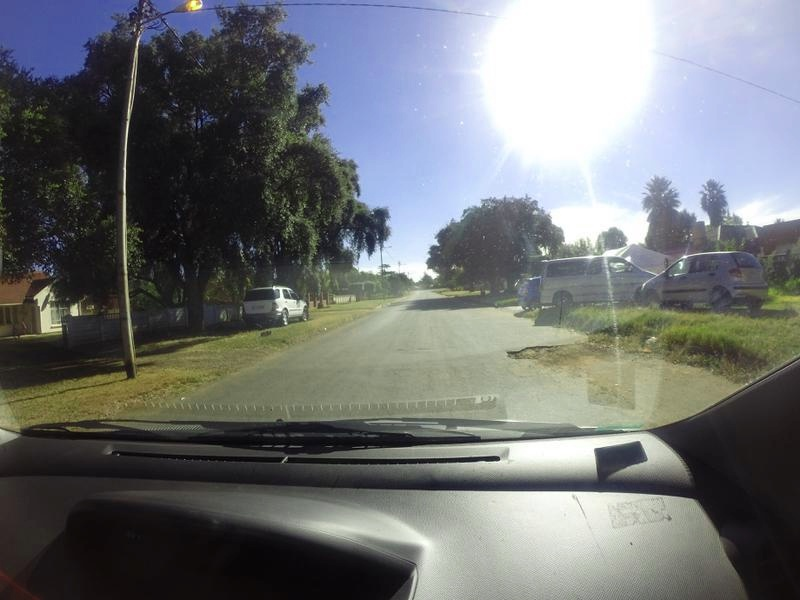pothole: (505, 344, 617, 372)
